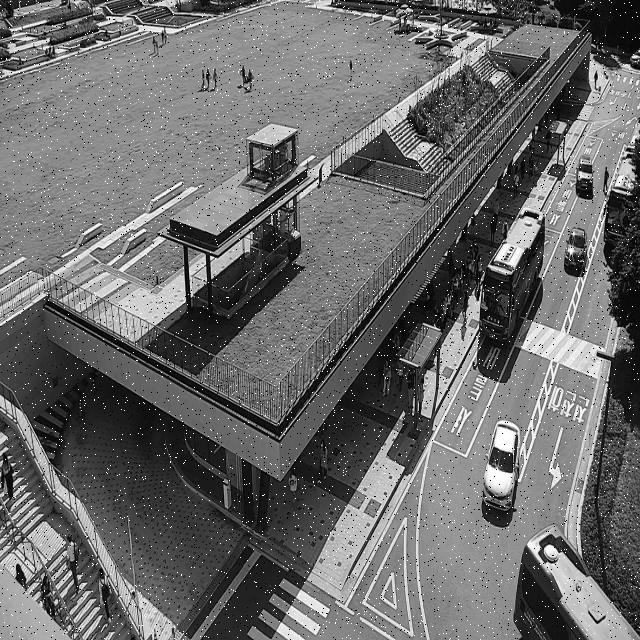queue: (414, 238, 481, 433)
